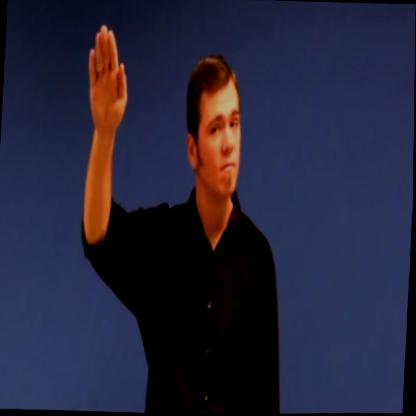Hello: (69, 29, 250, 279)
